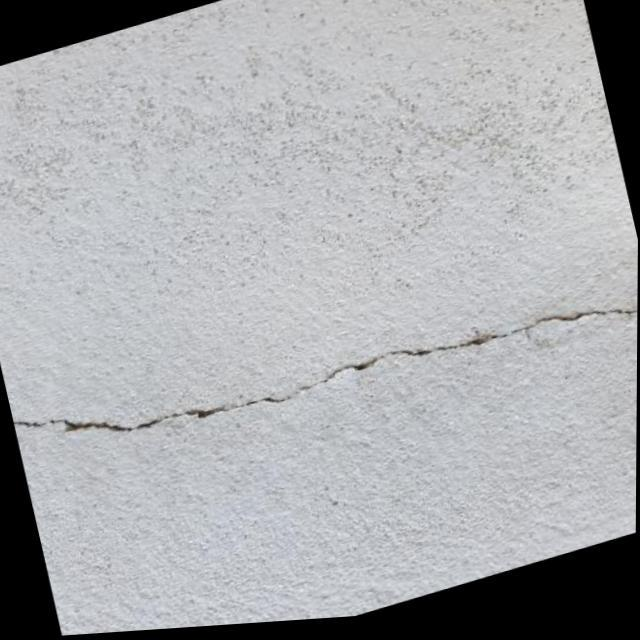Crack: (27, 315, 602, 439)
